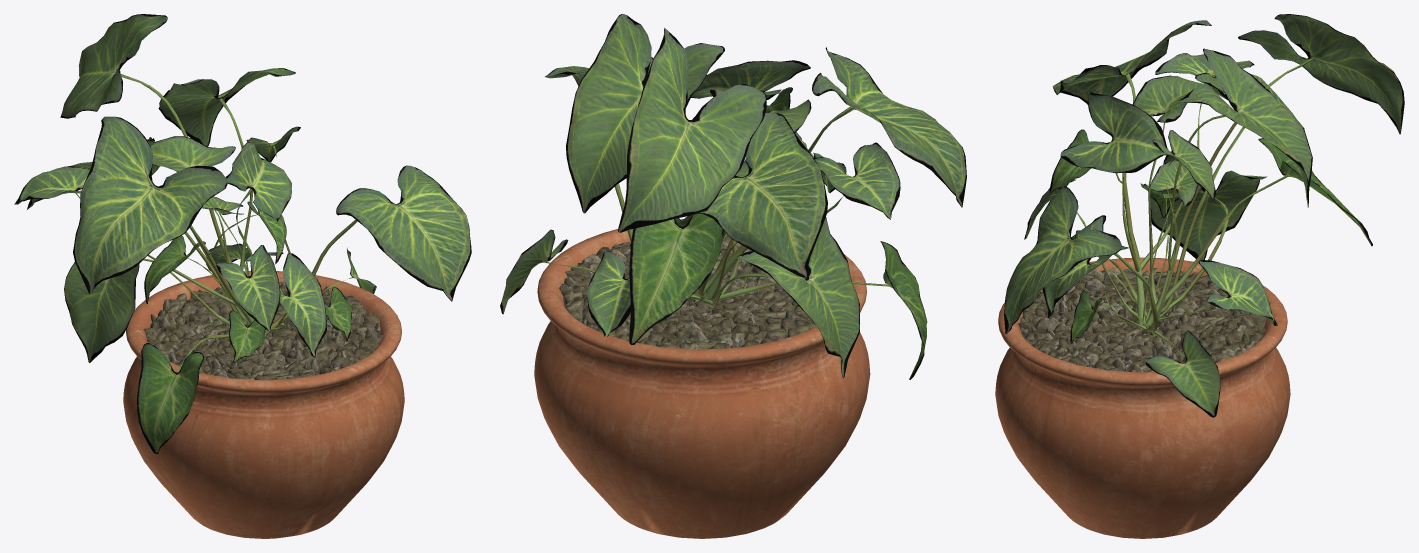
Rendered from potted_plant_02.glb.
The picture shows the model from 3 angles, left to right: view 1: azimuth 30°, elevation 25°; view 2: azimuth 150°, elevation 25°; view 3: azimuth 270°, elevation 25°; orthographic projection. The views are drawn at different scales.
Parts seen in each view (by area): view 1: potted_plant_02_leaves, potted_plant_02_pot, potted_plant_02_dirt; view 2: potted_plant_02_leaves, potted_plant_02_pot, potted_plant_02_dirt; view 3: potted_plant_02_leaves, potted_plant_02_pot, potted_plant_02_dirt.
Part boxes in pixels (left/top/right/bottom): potted_plant_02_leaves: left=14, top=14, right=471, bottom=453; potted_plant_02_pot: left=123, top=271, right=404, bottom=538; potted_plant_02_dirt: left=143, top=282, right=383, bottom=380; potted_plant_02_leaves: left=500, top=14, right=966, bottom=379; potted_plant_02_pot: left=534, top=219, right=870, bottom=538; potted_plant_02_dirt: left=559, top=233, right=816, bottom=349; potted_plant_02_leaves: left=1004, top=14, right=1404, bottom=417; potted_plant_02_pot: left=995, top=257, right=1290, bottom=538; potted_plant_02_dirt: left=1018, top=267, right=1266, bottom=372.
Bounding box in the file's own units: 0.7009 × 0.8412 × 0.6574.
Materials: 2 (2 with a texture image).
